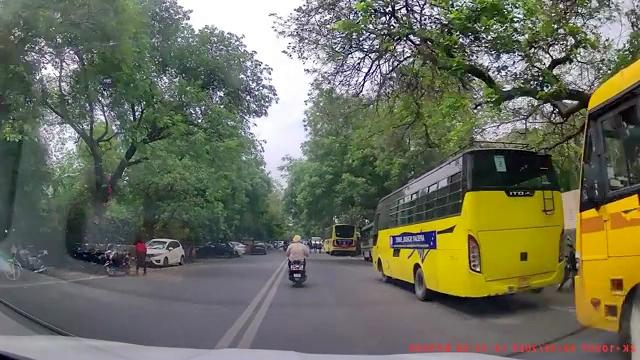motorcycle_with_helmet: (286, 233, 310, 286)
